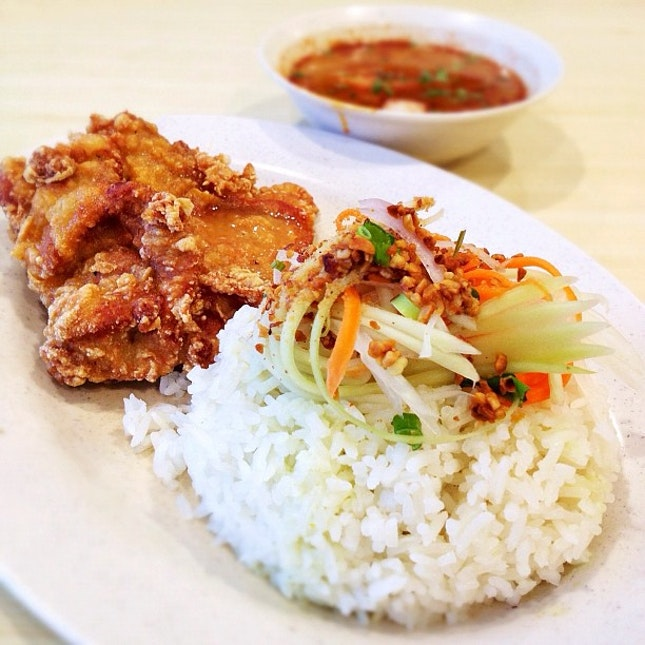plain rice: (214, 412, 566, 604)
